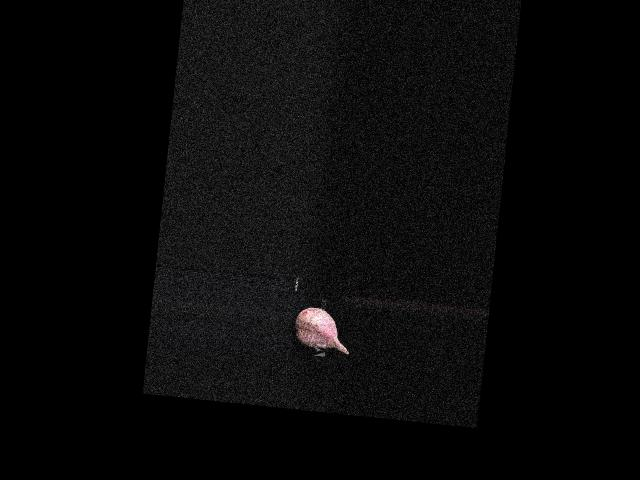beet: (293, 305, 352, 353)
